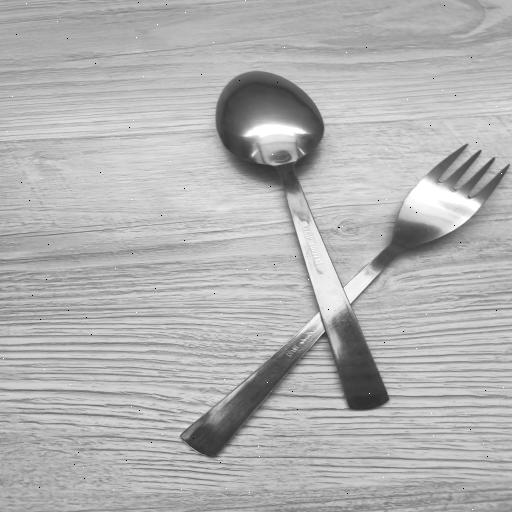fork: (183, 140, 512, 458)
spoon: (208, 68, 394, 408)
